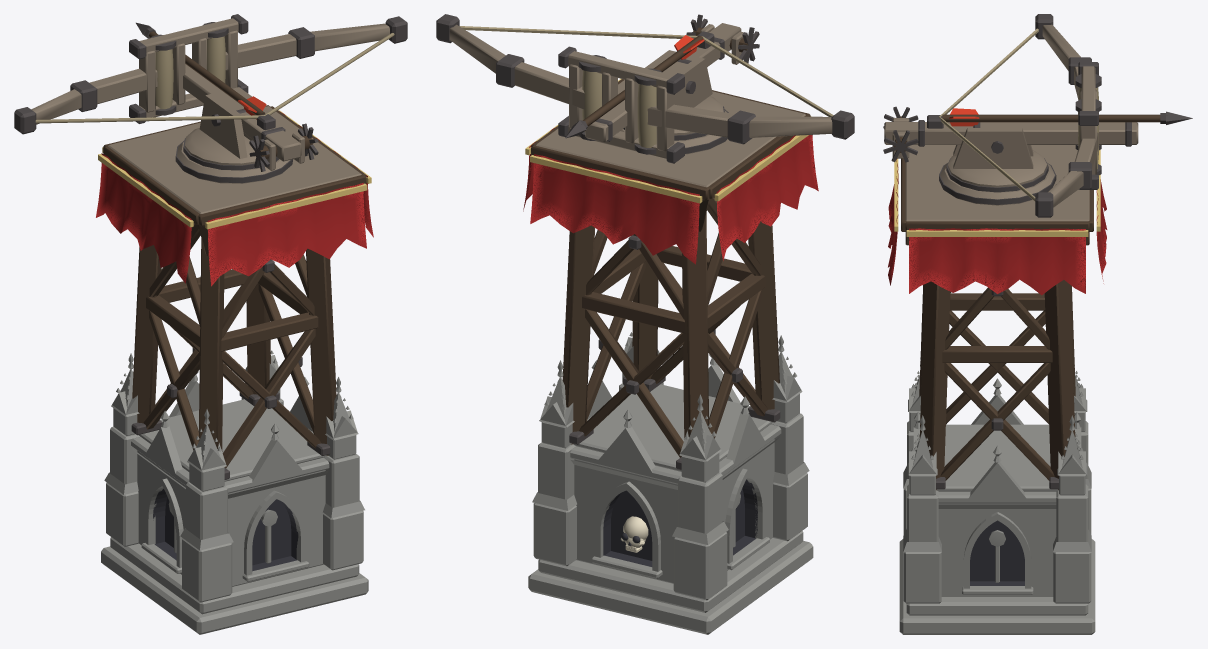
File: tower_arrow_2.glb
3 renders of one model, left to right at view 1: azimuth 30°, elevation 25°; view 2: azimuth 150°, elevation 25°; view 3: azimuth 270°, elevation 25°, orthographic. The views are drawn at different scales.
Parts seen in each view (by area): view 1: tower, turret; view 2: tower, turret; view 3: tower, turret.
Part boxes in pixels (x1=…): tower: x1=96, y1=105, x2=373, y2=634; turret: x1=14, y1=14, x2=407, y2=171; tower: x1=523, y1=79, x2=818, y2=634; turret: x1=436, y1=14, x2=854, y2=163; tower: x1=888, y1=145, x2=1107, y2=634; turret: x1=883, y1=14, x2=1192, y2=217.
Bounding box in the file's own units: 3.83 × 4.87 × 2.7.
